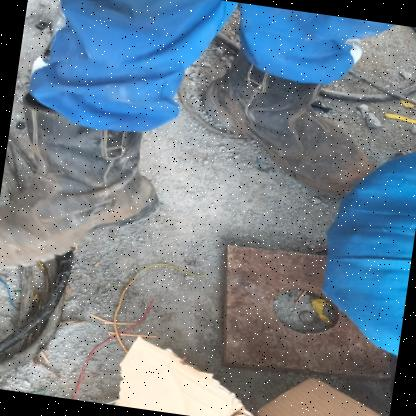bota: (178, 25, 388, 205), (0, 88, 178, 294)
